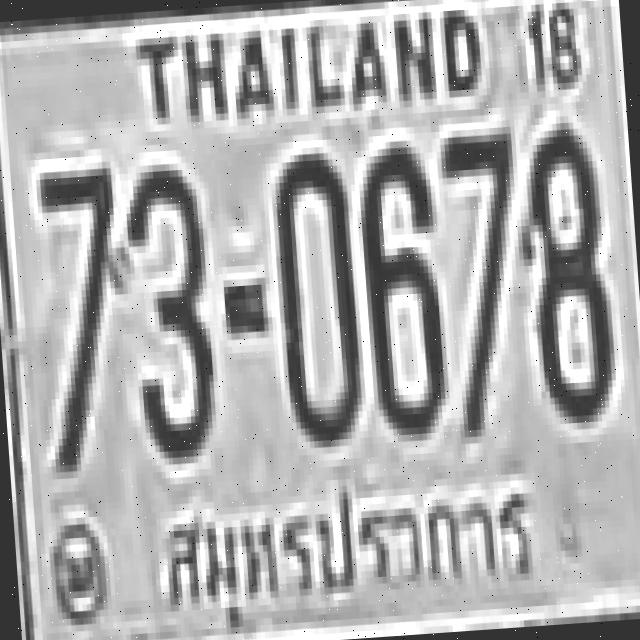0: (268, 145, 359, 443)
3: (118, 158, 214, 456)
6: (352, 136, 442, 434)
7: (434, 127, 526, 430), (35, 161, 126, 465), (434, 127, 522, 378), (34, 162, 120, 380)
8: (518, 116, 614, 422)
SamutPrakan: (148, 451, 544, 613)
